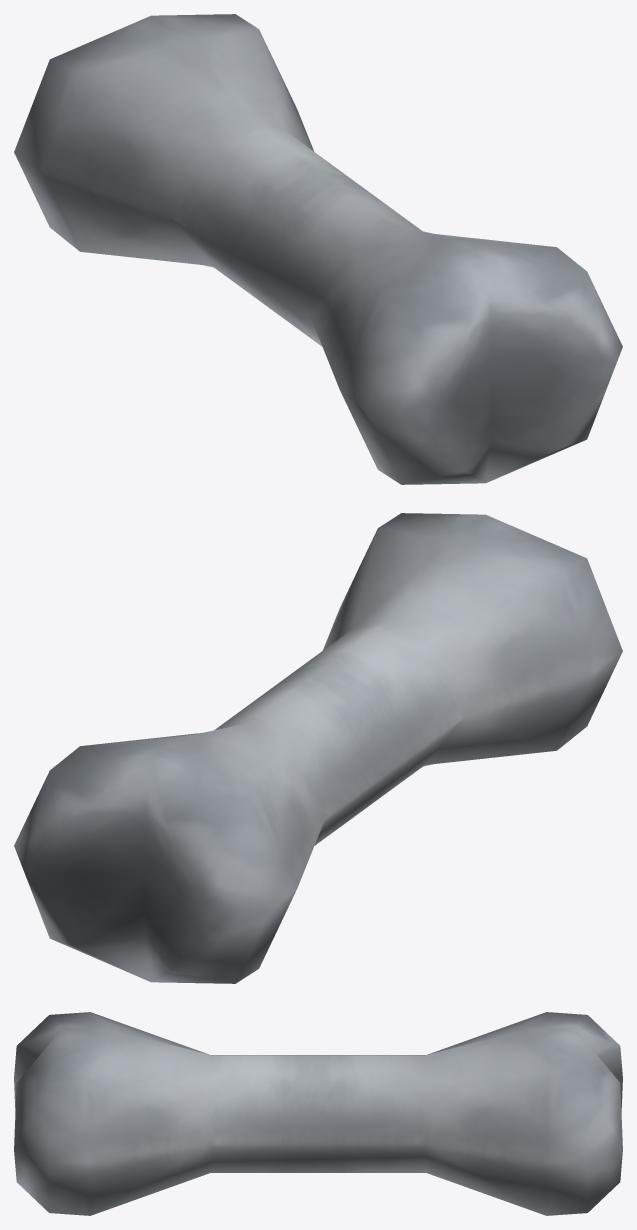
Rendered from Bone_small.FBX.
3 renders of one model, top to bottom at view 1: azimuth 30°, elevation 25°; view 2: azimuth 150°, elevation 25°; view 3: azimuth 270°, elevation 25°, orthographic. The views are drawn at different scales.
Parts seen in each view (by area): view 1: Object082; view 2: Object082; view 3: Object082.
Part boxes in pixels (x1,y1,x2,y2): Object082: (14,14,622,484); Object082: (14,513,622,983); Object082: (14,1012,622,1215).
Bounding box in the file's own units: 6.15 × 5.09 × 16.45.
1 material, 1 textured.
